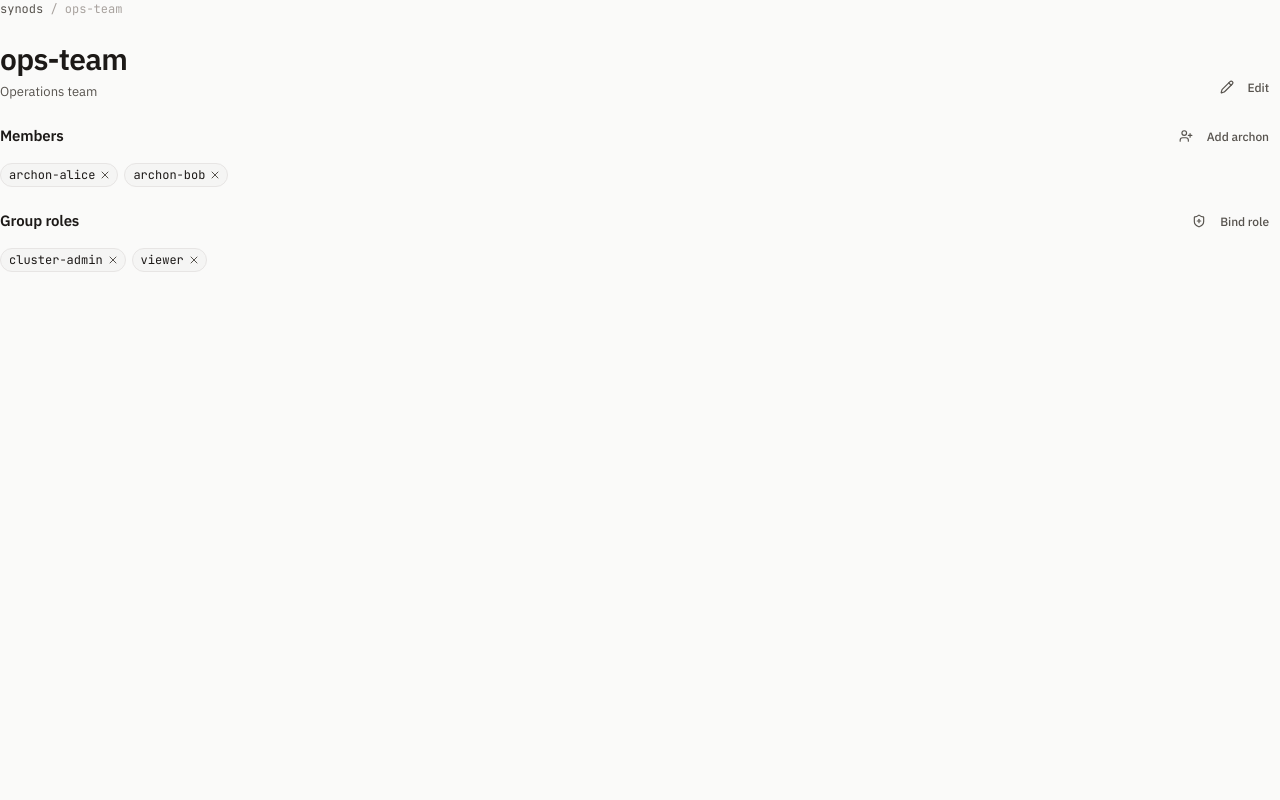
Test case: SynodDetail › [EDIT] 422 from PATCH is shown in the modal
Expected: the heading "ops-team" is shown, [0,44,127,74]
Click the button with test id "edit-synod-btn" at (1244, 87), box [1209,72,1279,102]
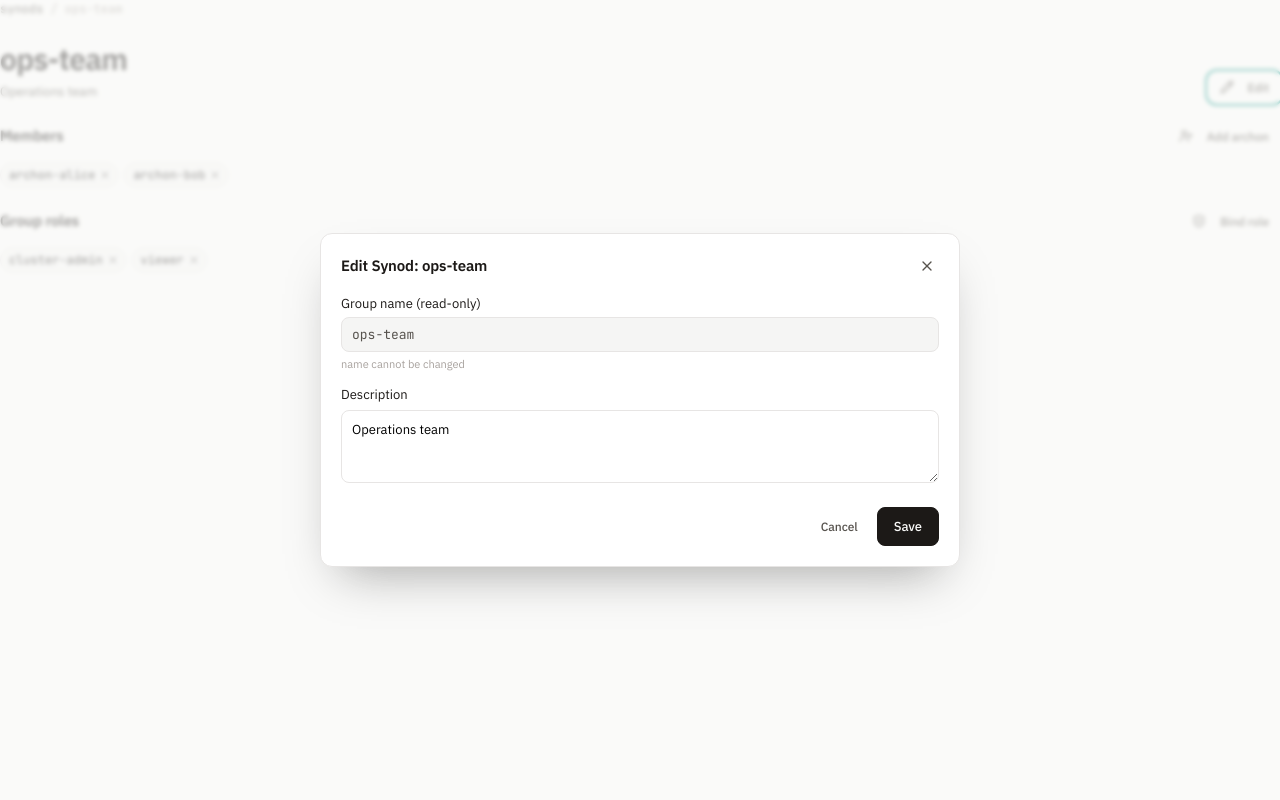
Click the button "Save" at (908, 527), box [877,507,939,546]
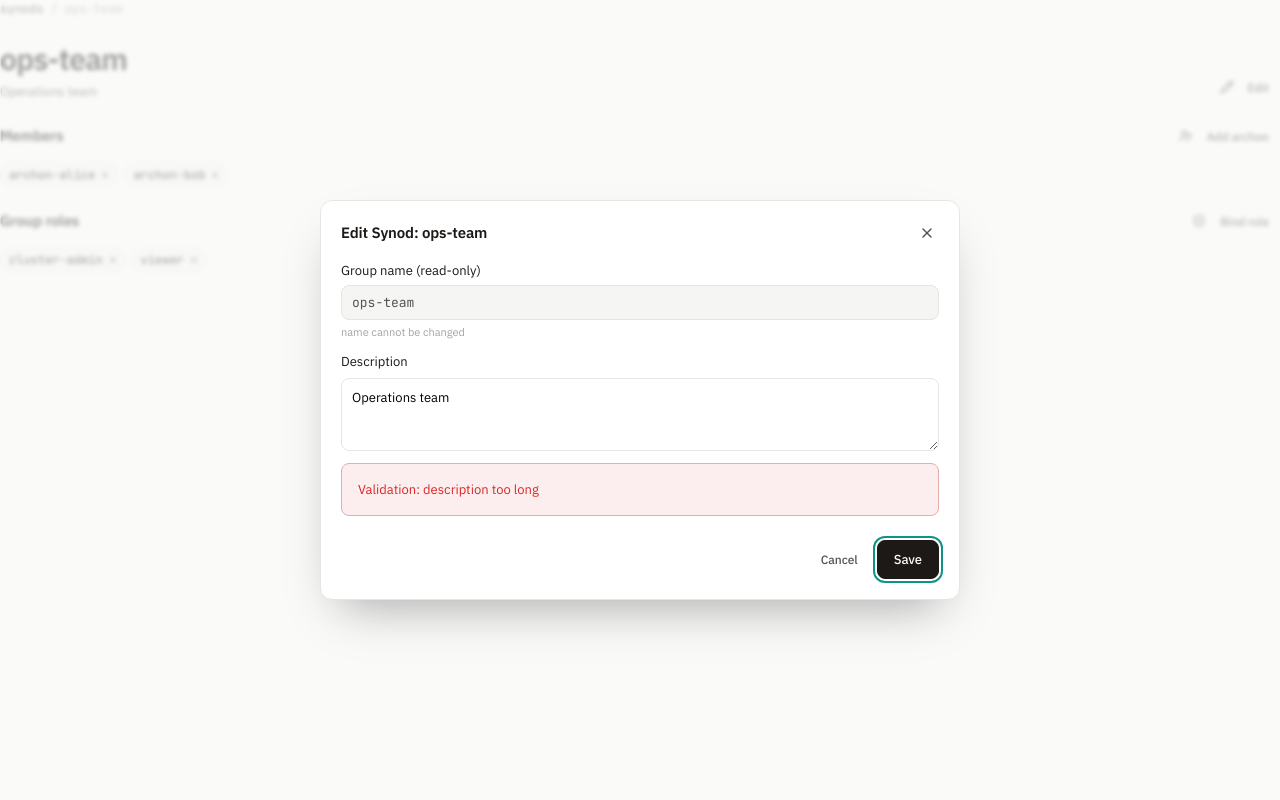
Result: the dialog "Edit Synod" is shown at [320,200,960,600]
Result: the message reads "Validation: description too long" at [358,480,539,498]
